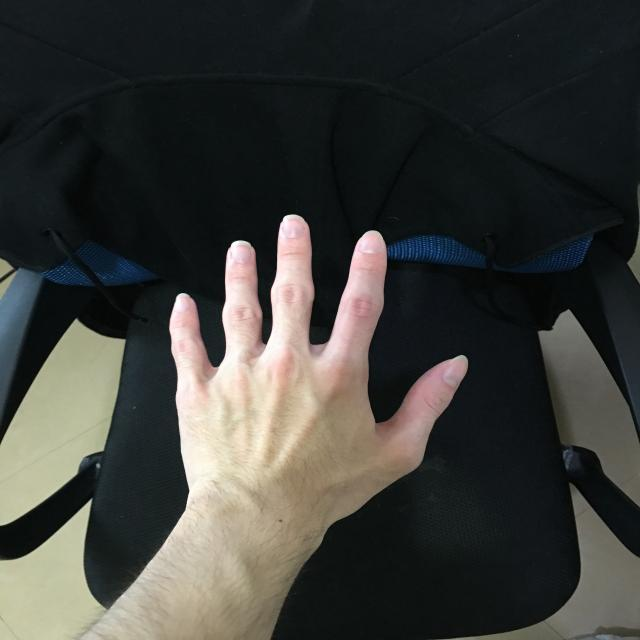no-gloves: (159, 206, 474, 506)
